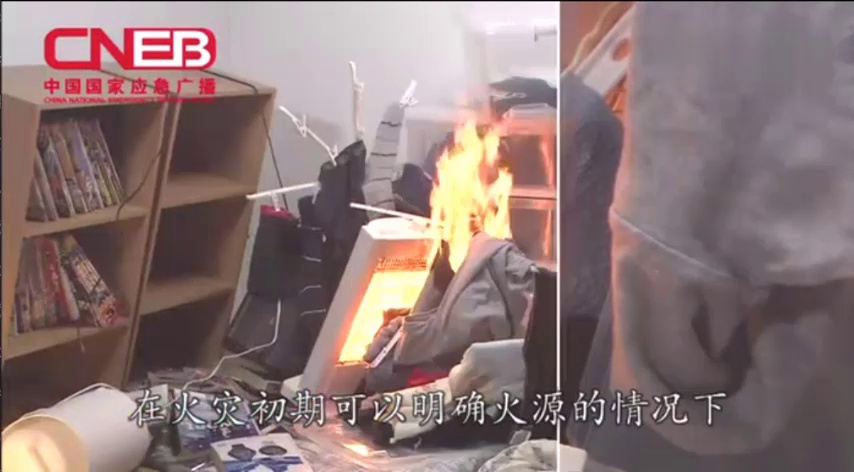fire: (417, 100, 528, 284)
